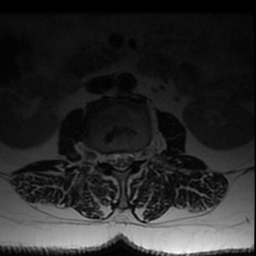CCS_normal: (116, 141, 124, 179)
LFS_normal: (133, 141, 142, 170)
LLS_normal: (124, 141, 133, 173)
RFS_normal: (97, 143, 107, 170)
RLS_normal: (106, 142, 116, 173)
